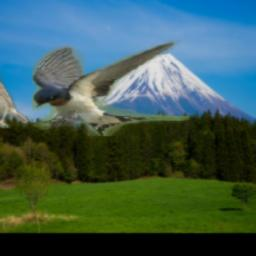Sparrow: (0, 66, 29, 129)
Swallow: (33, 40, 191, 137)
